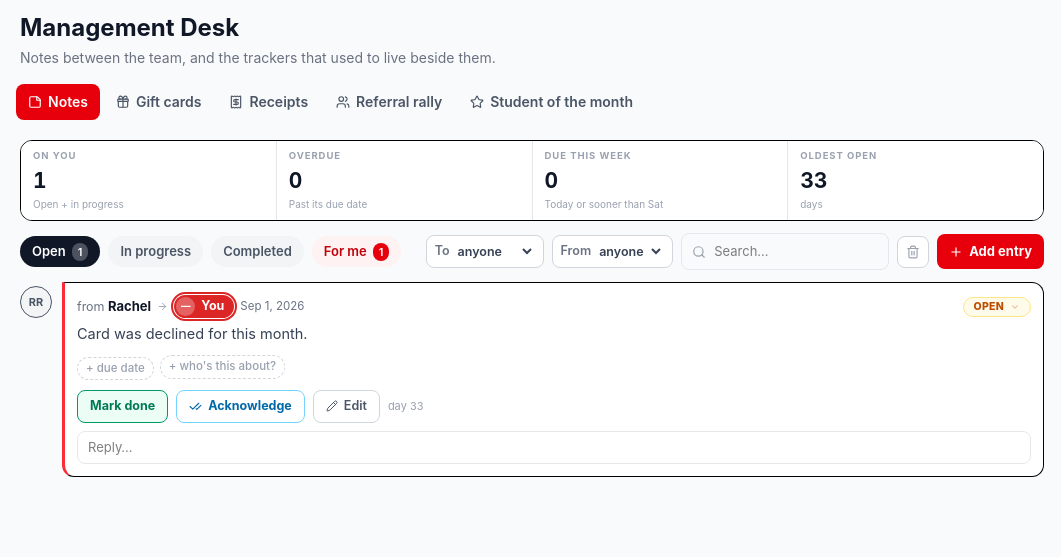
it: deleting notes — the desk settles, it does not erase › cancel leaves the mode without touching anything
What coordinates should you click on to do the following:
click the button titled "Delete notes"
I would click on:
 (913, 252)
Its box is [897,236,929,268].
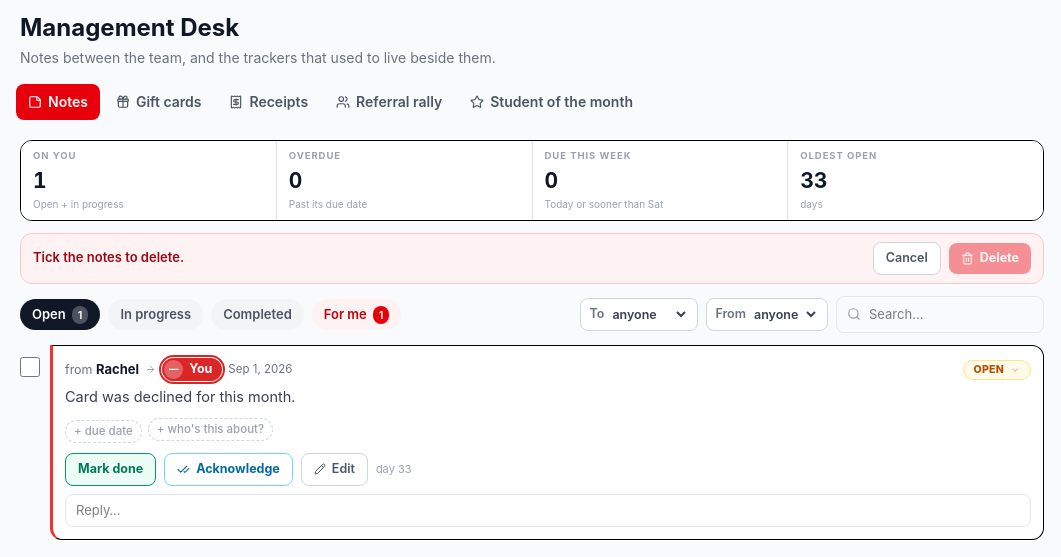
What coordinates should you click on to do the following:
click the checkbox
I would click on:
 (30, 367)
Its box is [20,357,40,377].
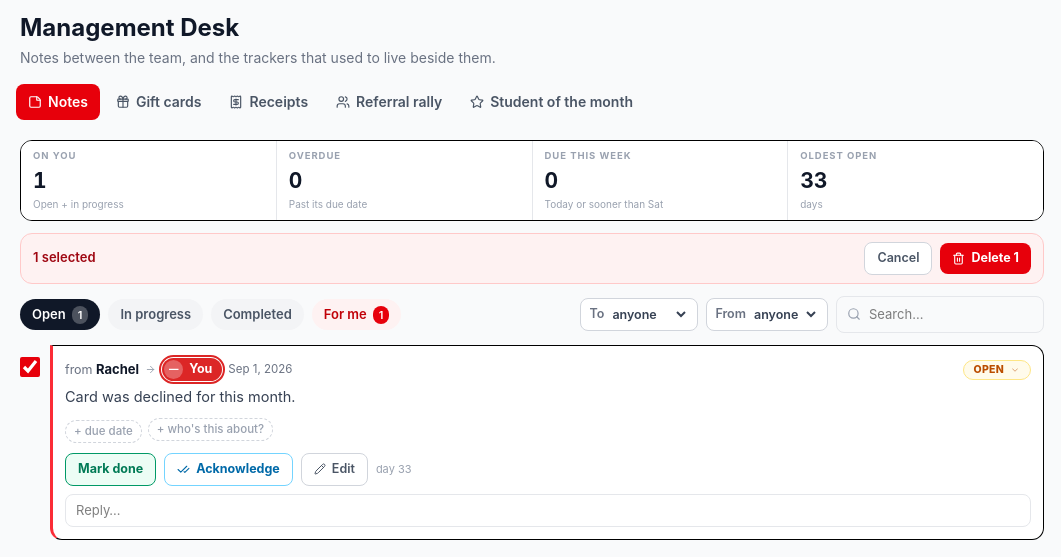
What coordinates should you click on to do the following:
click the button "Cancel"
I would click on:
 (898, 258)
Its box is [864,242,932,275].
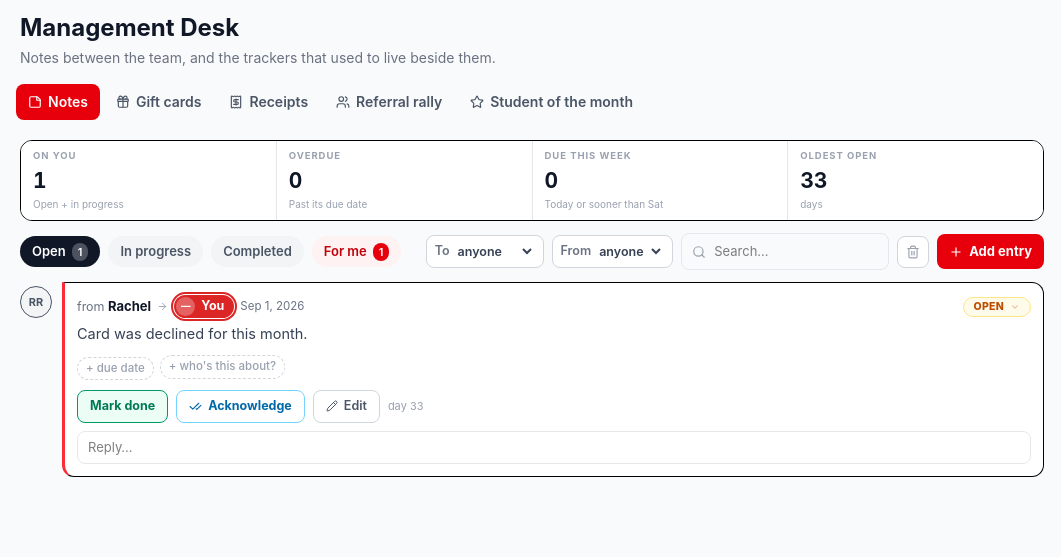
Expected: the text "Card was declined for this month." is shown, [77,325,308,342]
Result: the text "selected" is gone
